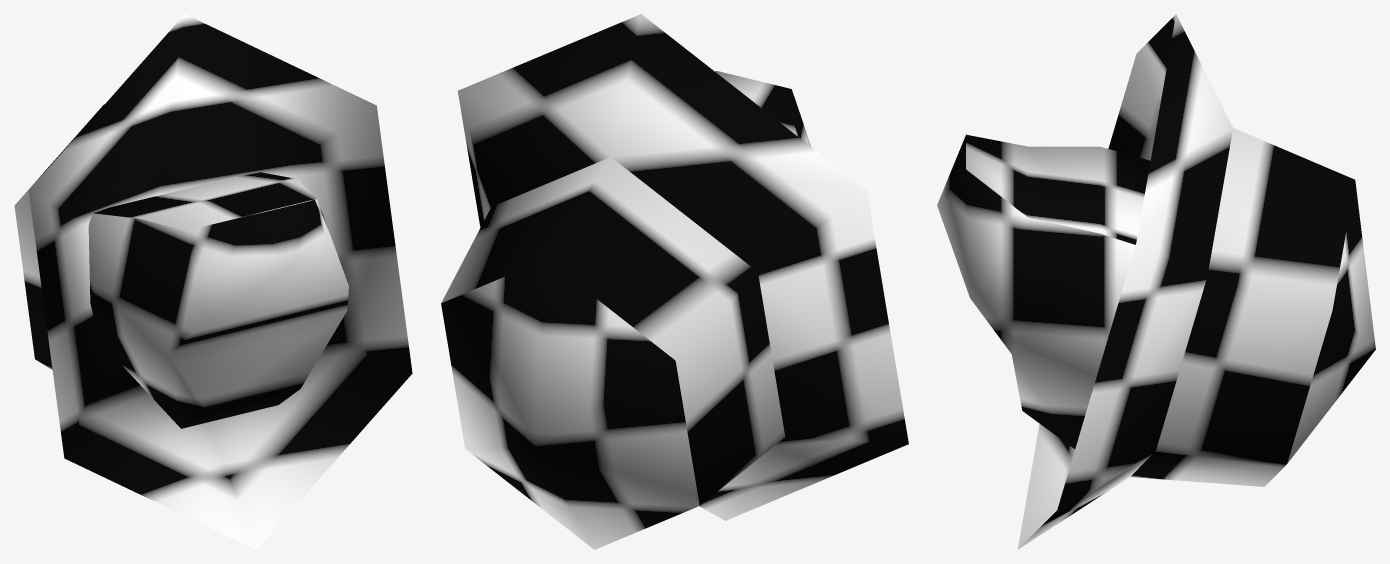
Rendered from initarhl15.dae.
The picture shows the model from 3 angles, left to right: view 1: azimuth 30°, elevation 25°; view 2: azimuth 150°, elevation 25°; view 3: azimuth 270°, elevation 25°; orthographic projection. The views are drawn at different scales.
Parts seen in each view (by area): view 1: armor; view 2: armor; view 3: armor.
Part boxes in pixels (left/top/right/bottom): armor: left=14, top=14, right=412, bottom=549; armor: left=441, top=14, right=908, bottom=549; armor: left=937, top=14, right=1375, bottom=549.
Size of the model in its own units: 1.1 by 1.08 by 1.46.
Materials: 1 (1 with a texture image).
